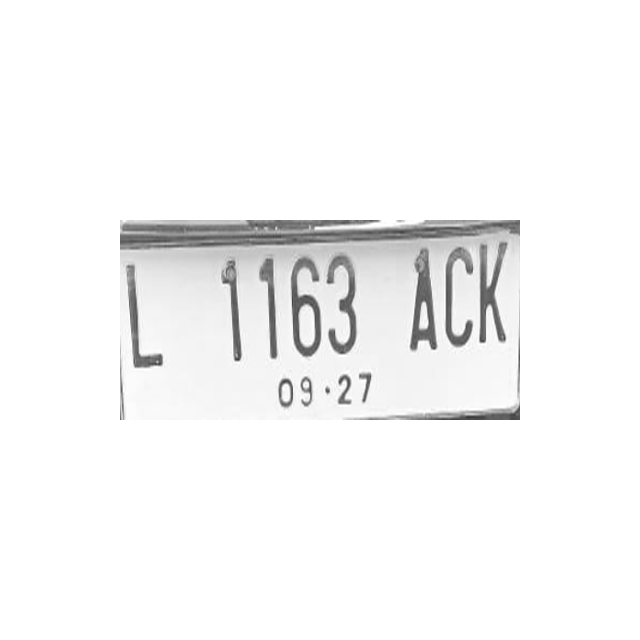contain: (122, 252, 166, 374), (202, 249, 246, 371), (244, 249, 288, 371), (283, 248, 327, 370), (320, 245, 364, 367), (399, 241, 443, 363), (436, 238, 480, 360), (470, 236, 514, 358)
